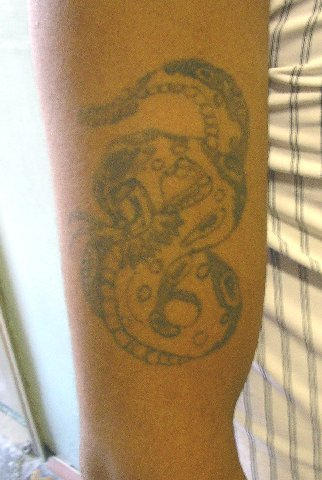tatu7_zmeya: (51, 30, 271, 415)
